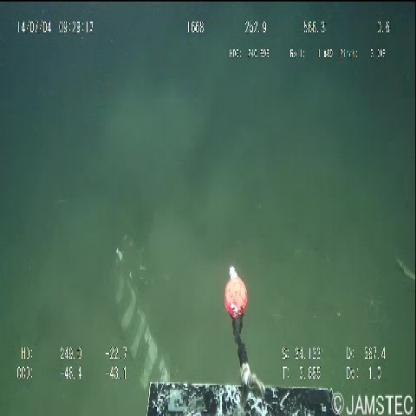Rác: (106, 237, 170, 399)
